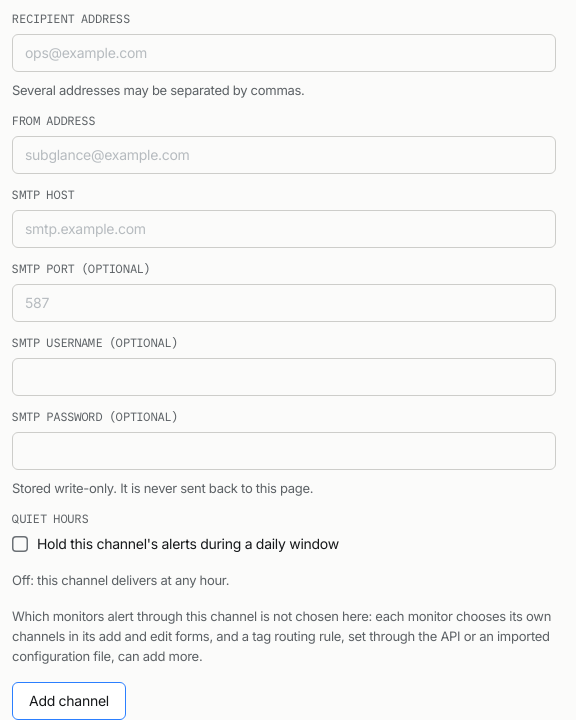
ChannelForm › refuses an empty name before sending anything
The image size is (576, 720).
(page scrolled)
What coordinates should you click on to do the following:
click the button "Add channel"
I would click on:
 (69, 701)
Its box is left=12, top=682, right=126, bottom=719.
(page scrolled)
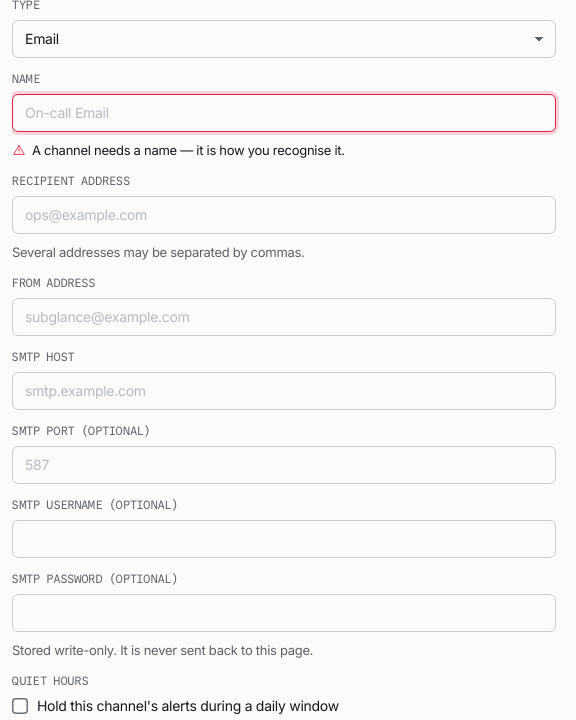
Check: the message shows "needs a name", box left=32, top=142, right=345, bottom=158
